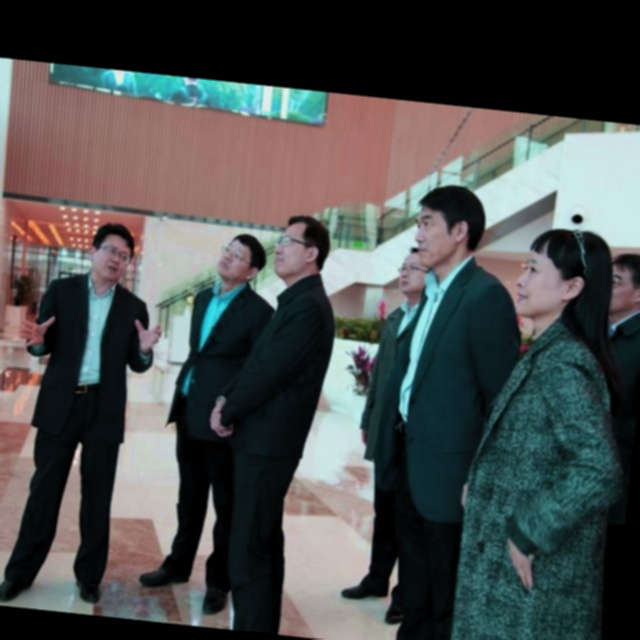Sin_Casco_Mascarrilla: (516, 226, 609, 325), (413, 182, 486, 268), (271, 212, 334, 278), (88, 220, 135, 287), (215, 230, 266, 284)
Sin_Chaleco: (241, 285, 338, 456), (36, 277, 146, 409)
